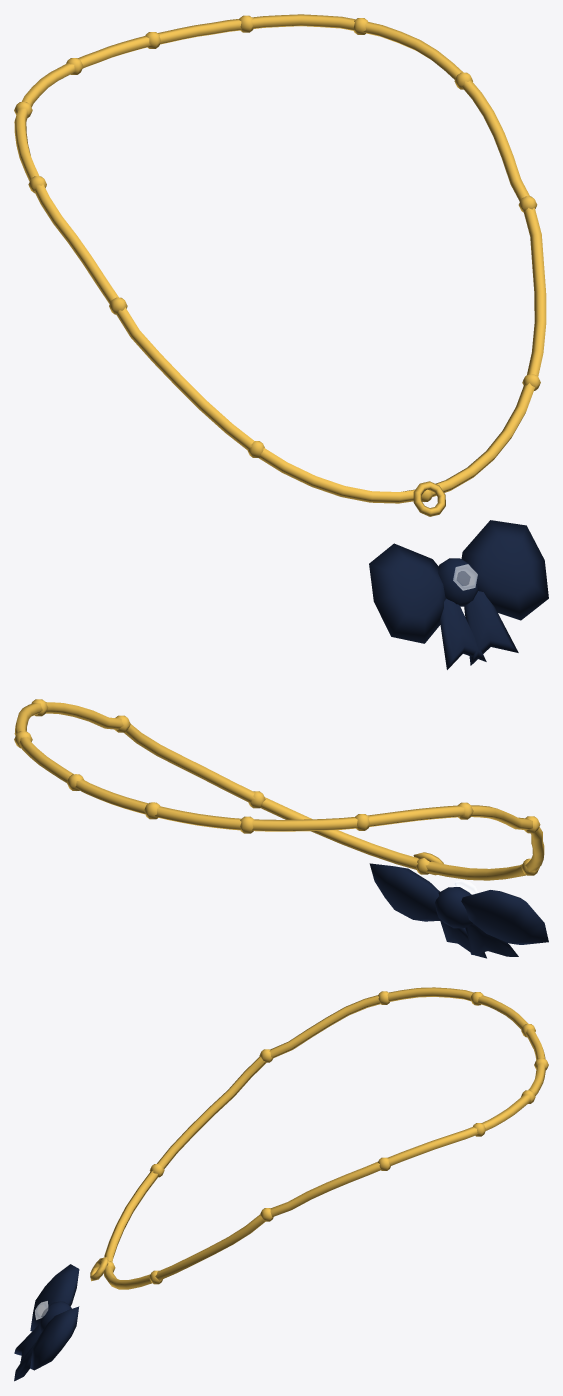
Rendered from bow_necklace.glb.
3 views of the same model, one above another, from view 1: azimuth 30°, elevation 25°; view 2: azimuth 150°, elevation 25°; view 3: azimuth 270°, elevation 25° (orthographic). The views are drawn at different scales.
Visible parts, largest first — view 1: bow_necklace; view 2: bow_necklace; view 3: bow_necklace.
Part boxes in pixels (x1=…): bow_necklace: x1=14, y1=14, x2=548, y2=669; bow_necklace: x1=14, y1=699, x2=548, y2=958; bow_necklace: x1=14, y1=987, x2=548, y2=1381.
Bounding box in the file's own units: 0.0893 × 0.0764 × 0.1177.
